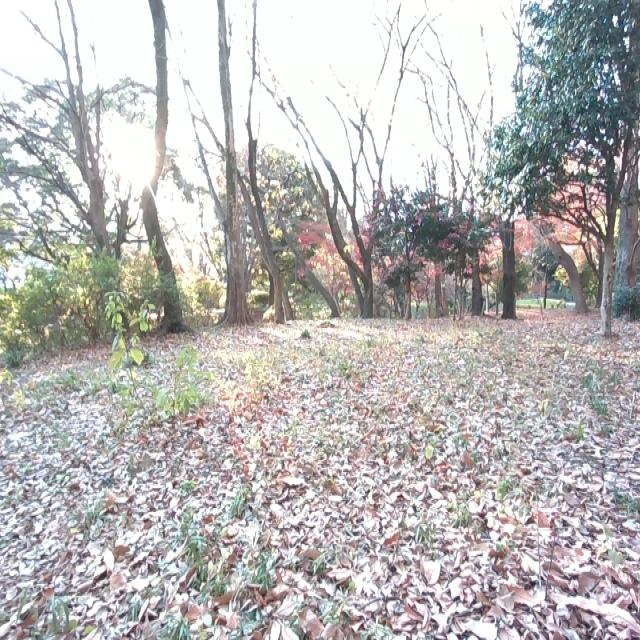bush: (0, 226, 174, 370), (97, 284, 217, 438)
tree: (259, 0, 409, 332), (189, 0, 295, 323), (0, 0, 131, 248), (568, 0, 640, 332), (200, 0, 252, 327), (145, 0, 193, 333), (437, 66, 486, 314), (489, 164, 534, 324), (537, 195, 591, 309)
